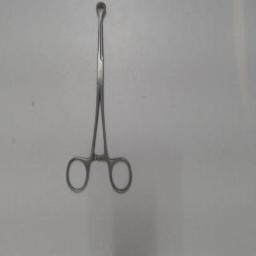Babcock Tissue Forceps: (65, 2, 135, 196)
